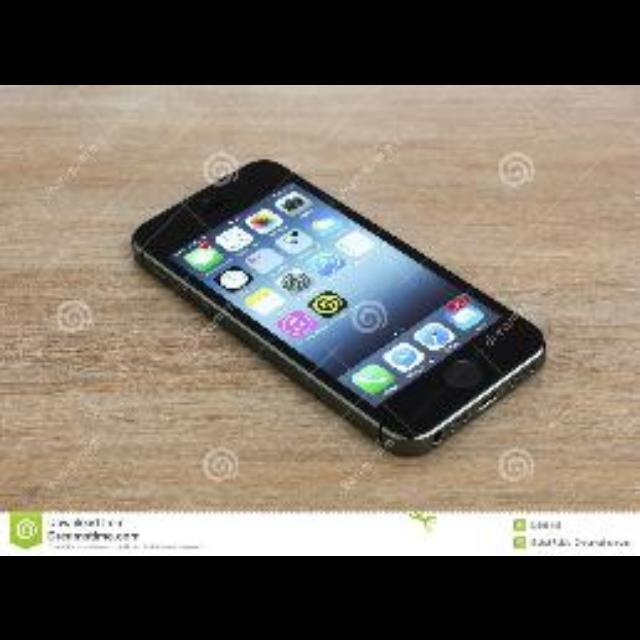phone: (131, 156, 547, 452)
